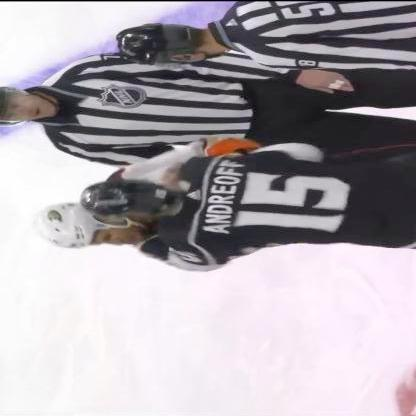non-Voilence: (103, 0, 416, 74)
voilence: (28, 132, 416, 274)
